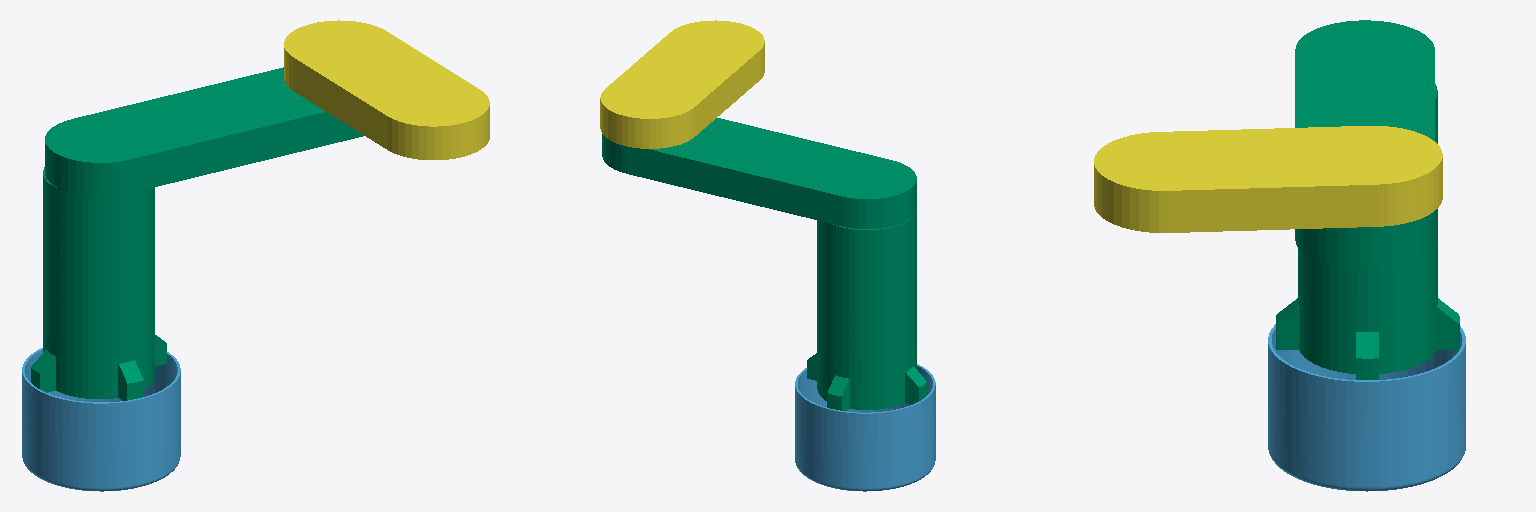
robot.urdf — robot_arm:
<?xml version="1.0" ?>
<robot name = "robot_arm">

<!--base link-->
<link name = "base_link" />

<!-- link 0 -->
<link name = "link0">
    <visual>
        <geometry>
        <mesh filename="package://ros_project/meshes/Part1.stl" scale="0.003 0.003 0.003"/>
 
        <cylinder length="0.1" radius="0.1"/>
        </geometry>
        <origin xyz="-0.125 -0.125 0" rpy="0 0 0"/>
    </visual>

    
    <inertial>
        <origin xyz="0 0 0" rpy="0 0 0"/>
        <mass value="1"/>
        <inertia ixx="0.001" ixy="0" ixz="0" iyy="0.001" iyz="0" izz="0"/>
    </inertial>
</link>



<!--joint0-->
<joint name="joint0" type="fixed">
    <parent link="base_link"/>
    <child link="link0"/>
   
    <origin xyz="0 0 0" rpy="0 0 0"/>
    <axis xyz="0 0 0"/>
    <limit lower="0" upper="180" effort="200" velocity="1"/>
</joint>




<!-- link 1 -->
<link name = "link1">
    <visual>
        <geometry>
            <mesh filename="package://ros_project/meshes/Part2.stl"  scale="0.003 0.003 0.003"/>
        </geometry>
        <origin xyz="-0.12 -0.115 0" rpy="0 0 0"/>
    </visual>

     

    <visual>
        <geometry>
            <mesh filename="package://ros_project/meshes/Part3.stl" scale="0.003 0.003 0.003"/>
        </geometry>
        <origin xyz="-0.09 -0.09 0.36" rpy="0 0 0"/>
    </visual>

     

    <inertial>
        <origin xyz="0 0 0" rpy="0 0 0"/>
        <mass value="1"/>
        <inertia ixx="0.01" ixy="0" ixz="0" iyy="0.01" iyz="0" izz="0.01"/>
    </inertial>
</link>



<!--joint2-->
<joint name="joint2" type="revolute">
    <parent link="link0"/>
    <child link="link1"/>
    <origin xyz="0 0 0.15" rpy="0 0 0"/>
    <axis xyz="0 0 1"/>
    <limit lower="-1.5" upper="1.5" effort="100" velocity="1"/>
</joint>




<!-- link 2 -->
<link name = "link2">
    <visual>
        <geometry>
            <mesh filename="package://ros_project/meshes/Part4.stl" scale="0.003 0.003 0.003"/>
        </geometry>
        <origin xyz="-0.1 -0.09 0.02" rpy="0 0 0"/>
    </visual>

    

    <inertial>
        <origin xyz="0 0 0" rpy="0 0 0"/>
        <mass value="1"/>
        <inertia ixx="0.001" ixy="0" ixz="0" iyy="0.001" iyz="0" izz="0"/>
    </inertial>
</link>


<!-- Joint 1 -->
    <joint name="joint1" type="revolute">
        <parent link="link1"/>
        <child link="link2"/>
        <origin xyz="0.45 0 0.4" rpy="0 0 -1.5"/>
        <axis xyz="0 0 1"/>
        <limit lower="-1.5" upper="1.5" effort="200" velocity="2.0"/>
    </joint>



</robot>

--- Render facts (derived) ---
3 views of the same robot in one strip: view 1: azimuth 30°, elevation 25°; view 2: azimuth 150°, elevation 25°; view 3: azimuth 270°, elevation 25° (orthographic).
Robot: robot_arm — 4 links, 3 joints (2 revolute, 1 fixed); root link base_link; default pose: every joint at zero.
Links seen in each view (by area): view 1: link1, link2, link0; view 2: link1, link2, link0; view 3: link1, link2, link0.
Boxes of the visible links, x1,y1,x2,y2 form: link1: [31, 67, 363, 400]; link2: [284, 20, 489, 159]; link0: [22, 348, 180, 491]; link1: [602, 118, 926, 410]; link2: [600, 20, 764, 148]; link0: [795, 364, 935, 491]; link1: [1276, 20, 1459, 379]; link2: [1094, 126, 1442, 232]; link0: [1268, 324, 1465, 491].
Bounding box of the posed robot: 0.6832 × 0.479 × 0.63 m (x, y, z).
Meshes: 4 distinct files referenced, 4 mesh visuals loaded (4 binary STL).